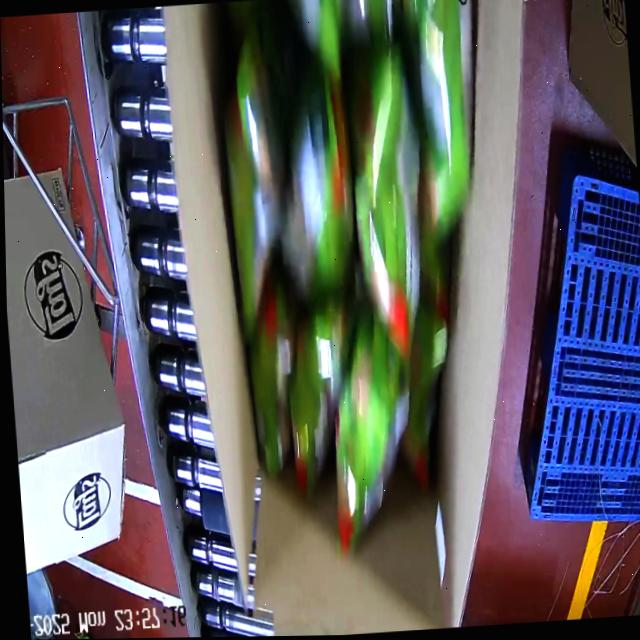YOGURT_HERB: (200, 0, 511, 505)
